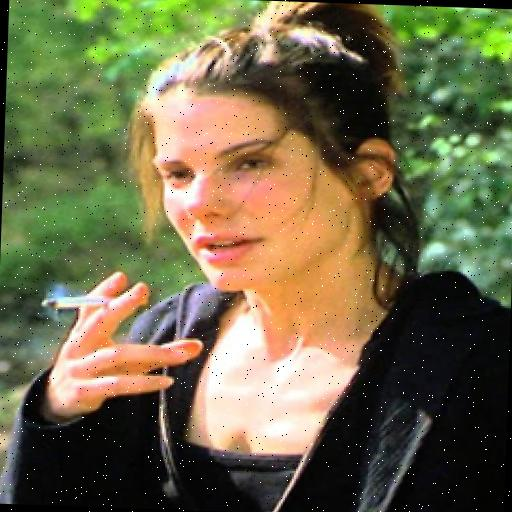pegang rokok: (22, 222, 172, 434)
